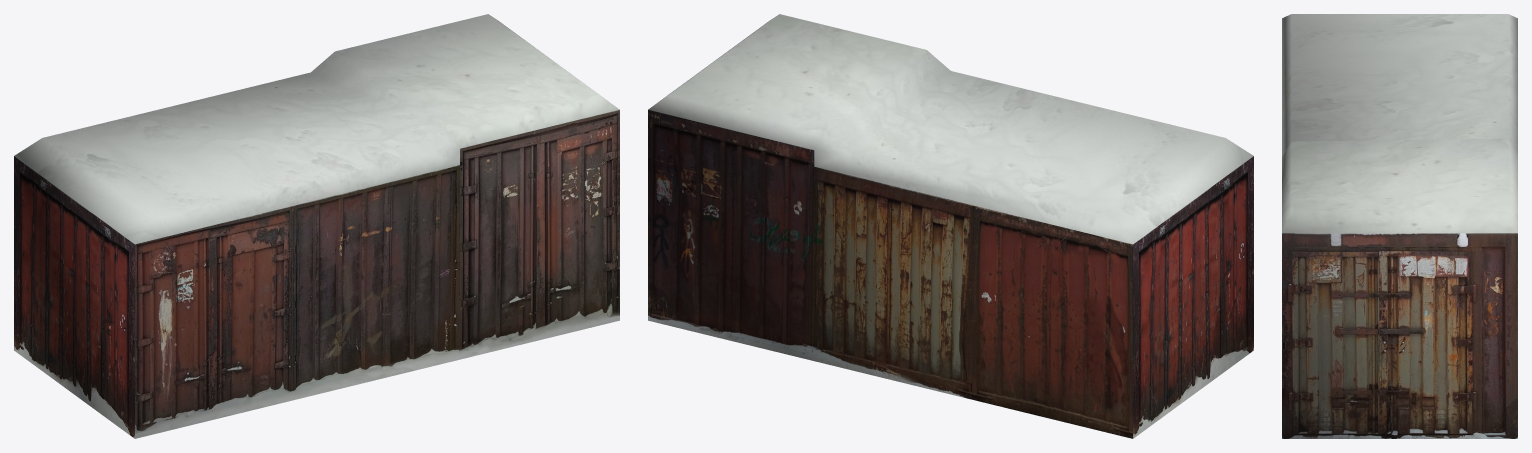
The model's file is container_snow.glb.
3 renders of one model, left to right at view 1: azimuth 30°, elevation 25°; view 2: azimuth 150°, elevation 25°; view 3: azimuth 270°, elevation 25°, orthographic. The views are drawn at different scales.
Parts seen in each view (by area): view 1: prop; view 2: prop; view 3: prop.
Boxes of the visible parts, box(x1,y1,x2,y2) form: prop: box(14, 14, 619, 438); prop: box(648, 14, 1253, 438); prop: box(1282, 14, 1517, 438).
Size of the model in its own units: 5.86 by 2.6 by 2.53.
Materials: 1 (1 with a texture image).
